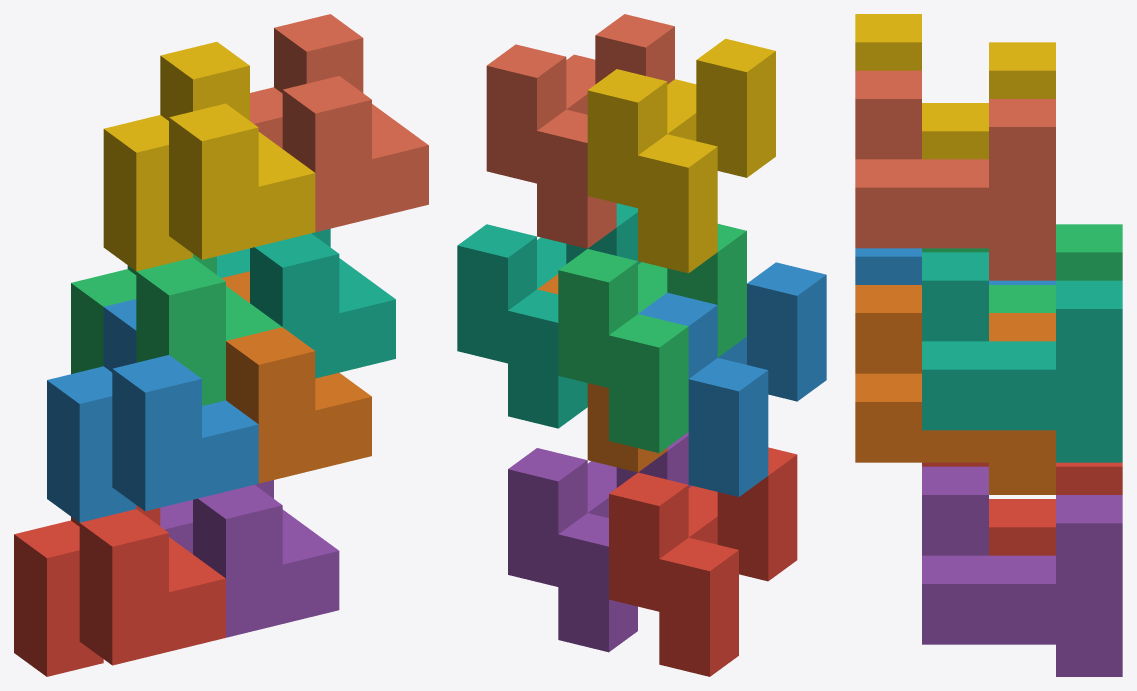
The model's file is tiling.obj.
3 renders of one model, left to right at view 1: azimuth 30°, elevation 25°; view 2: azimuth 150°, elevation 25°; view 3: azimuth 270°, elevation 25°, orthographic. The views are drawn at different scales.
Parts seen in each view (by area): view 1: copy_1_domain_4, copy_1_domain_2, copy_1_domain_1, copy_1_domain_8, copy_1_domain_5, copy_1_domain_6, copy_1_domain_3, copy_1_domain_7; view 2: copy_1_domain_4, copy_1_domain_1, copy_1_domain_3, copy_1_domain_2, copy_1_domain_8, copy_1_domain_7, copy_1_domain_5, copy_1_domain_6; view 3: copy_1_domain_7, copy_1_domain_5, copy_1_domain_8, copy_1_domain_6, copy_1_domain_4, copy_1_domain_1, copy_1_domain_3, copy_1_domain_2.
Part boxes in pixels (x1=…): copy_1_domain_4: x1=103, y1=42, x2=315, y2=271; copy_1_domain_2: x1=47, y1=299, x2=258, y2=522; copy_1_domain_1: x1=14, y1=505, x2=225, y2=676; copy_1_domain_8: x1=250, y1=14, x2=428, y2=232; copy_1_domain_5: x1=160, y1=480, x2=339, y2=637; copy_1_domain_6: x1=221, y1=271, x2=371, y2=483; copy_1_domain_3: x1=71, y1=254, x2=282, y2=405; copy_1_domain_7: x1=217, y1=228, x2=395, y2=378; copy_1_domain_4: x1=587, y1=38, x2=775, y2=273; copy_1_domain_1: x1=609, y1=447, x2=797, y2=676; copy_1_domain_3: x1=558, y1=224, x2=746, y2=453; copy_1_domain_2: x1=638, y1=262, x2=826, y2=496; copy_1_domain_8: x1=486, y1=14, x2=674, y2=248; copy_1_domain_7: x1=457, y1=203, x2=641, y2=428; copy_1_domain_5: x1=508, y1=432, x2=691, y2=652; copy_1_domain_6: x1=537, y1=274, x2=667, y2=472; copy_1_domain_7: x1=922, y1=252, x2=1122, y2=462; copy_1_domain_5: x1=922, y1=466, x2=1122, y2=676; copy_1_domain_8: x1=855, y1=70, x2=1055, y2=280; copy_1_domain_6: x1=855, y1=285, x2=1055, y2=494; copy_1_domain_4: x1=855, y1=14, x2=1055, y2=159; copy_1_domain_1: x1=922, y1=462, x2=1122, y2=555; copy_1_domain_3: x1=922, y1=224, x2=1122, y2=312; copy_1_domain_2: x1=855, y1=248, x2=1055, y2=284.
Bounding box in the file's own units: 5 × 10 × 4.
